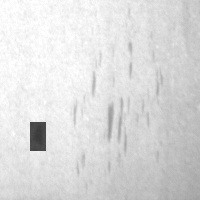inclusion: (97, 91, 137, 158), (122, 34, 138, 85), (30, 122, 46, 151)
